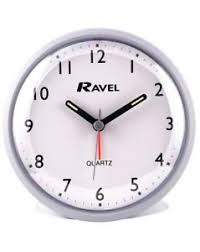alarm_clock: (4, 29, 196, 221), (14, 29, 196, 221)
